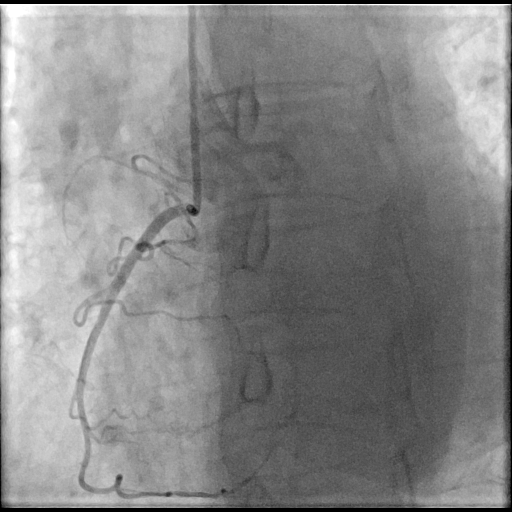RCA: (74, 204, 217, 498)
catherter: (188, 6, 201, 211)
